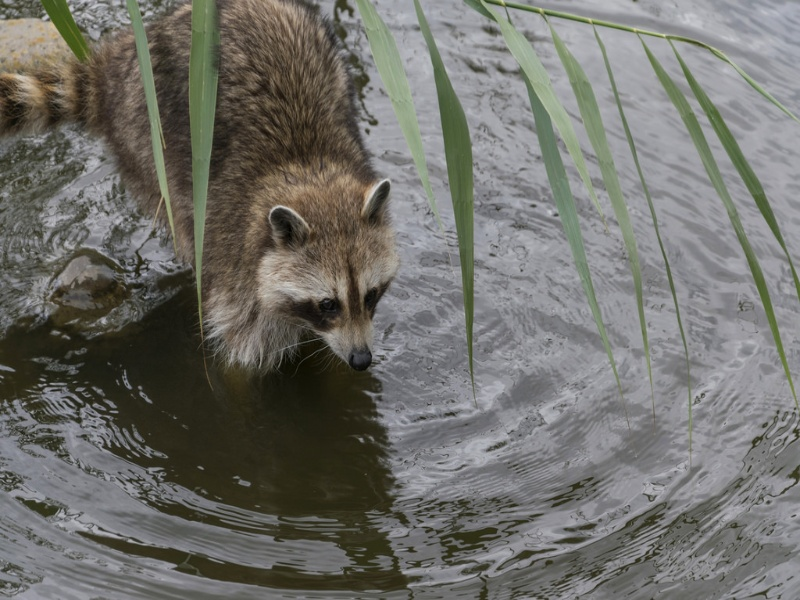raccoon: (1, 4, 404, 393)
